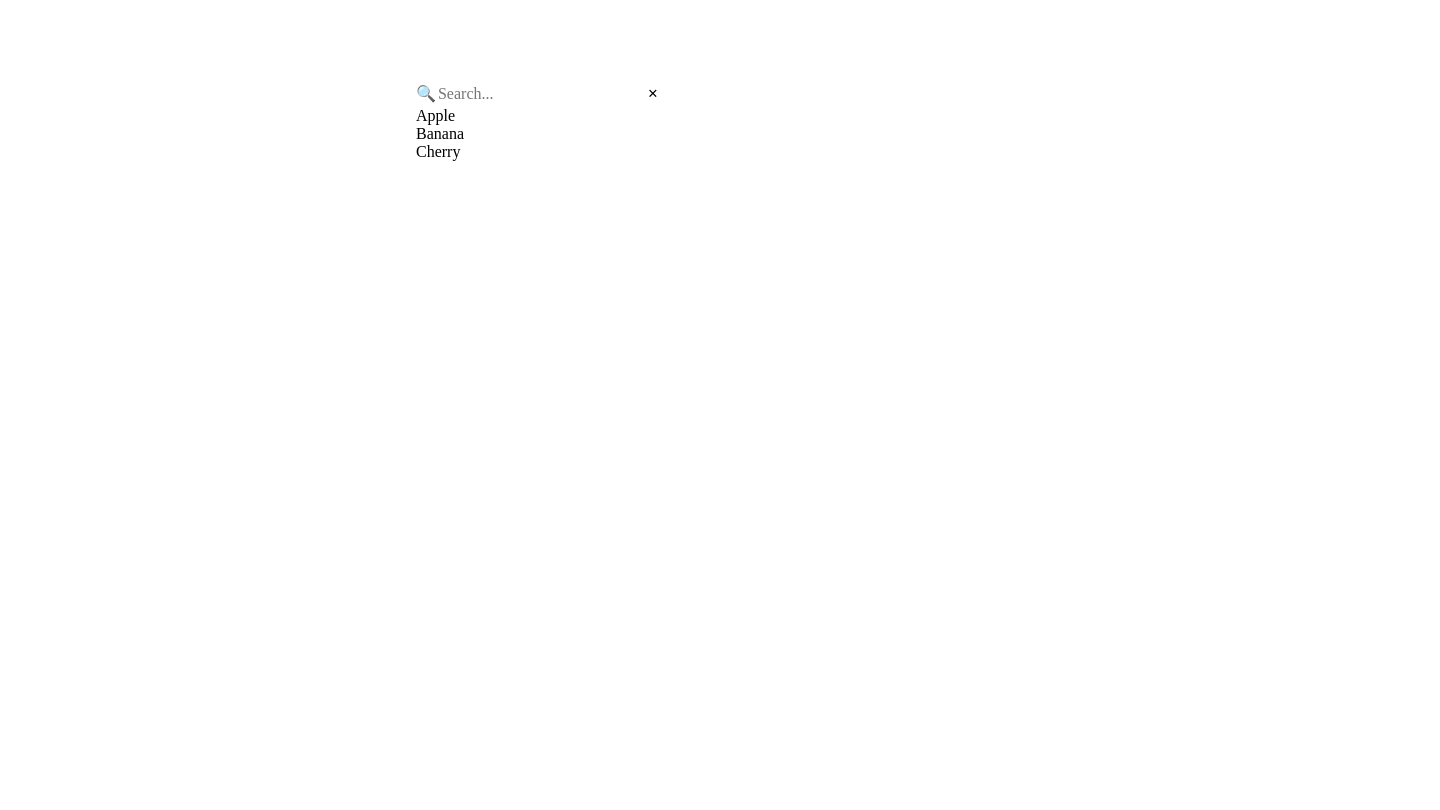
SicSearchComponent › shows the empty state when nothing matches
Type "zzz" into the field with class "sic-search__input" at (538, 94), box [436,84,640,104]
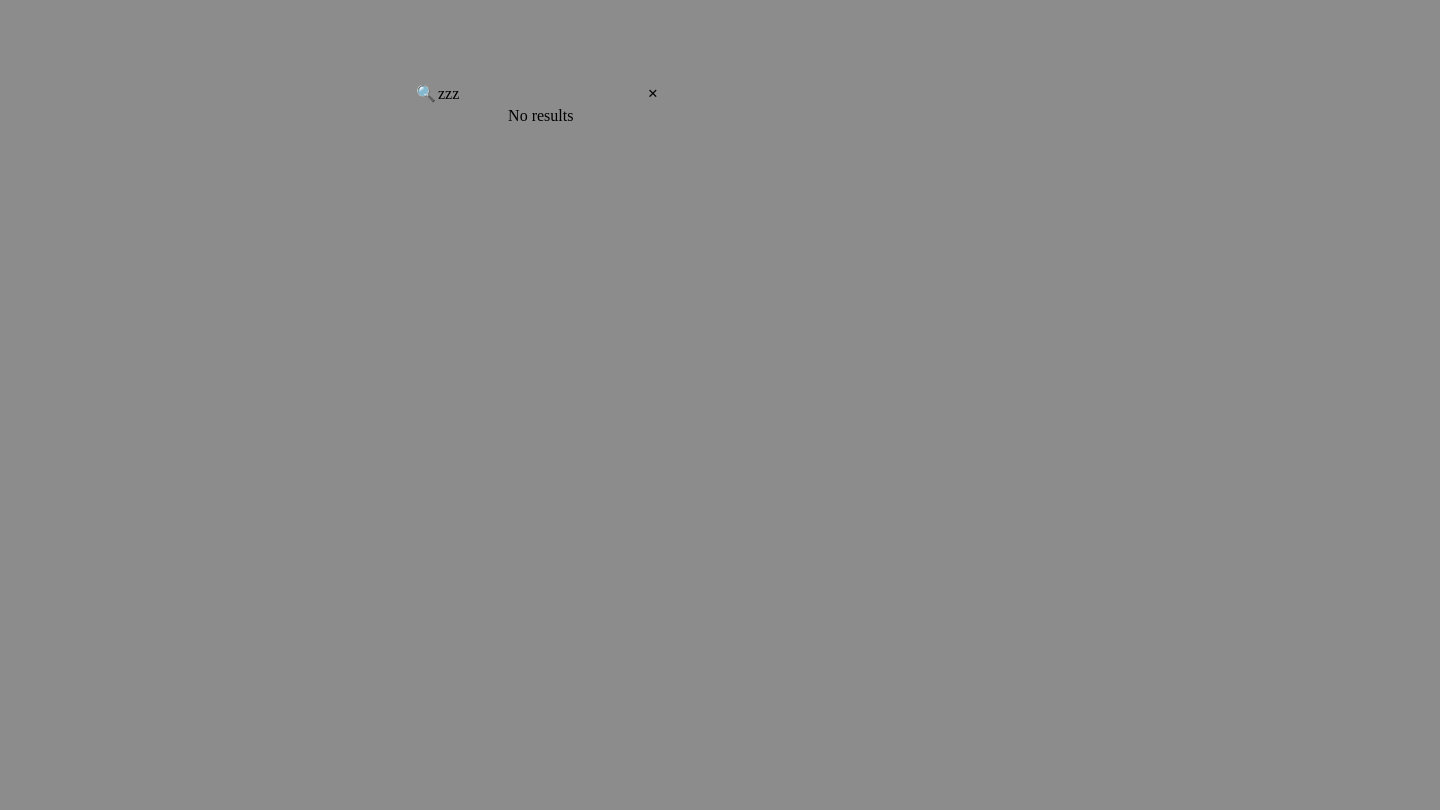
Expected: the list item with class "sic-search__empty" reads "No results", [508,107,573,124]
